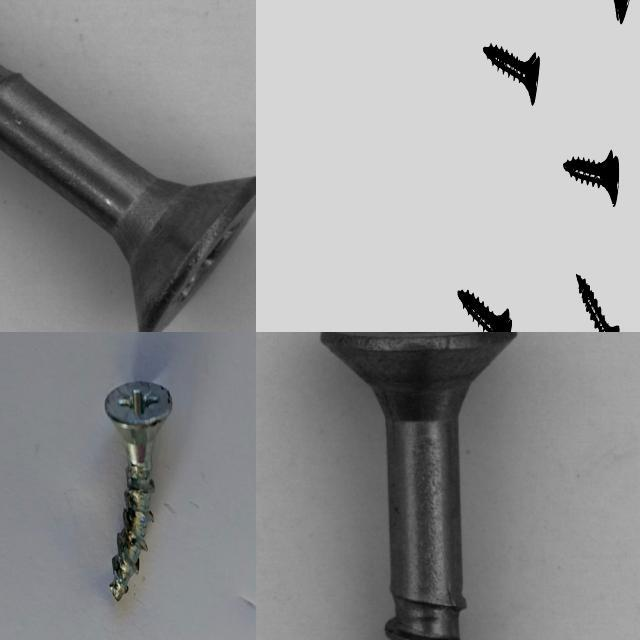Screw: (290, 332, 566, 640), (0, 0, 256, 332), (105, 380, 172, 601), (483, 41, 540, 103), (564, 148, 620, 205), (577, 273, 620, 332), (458, 289, 512, 332)
